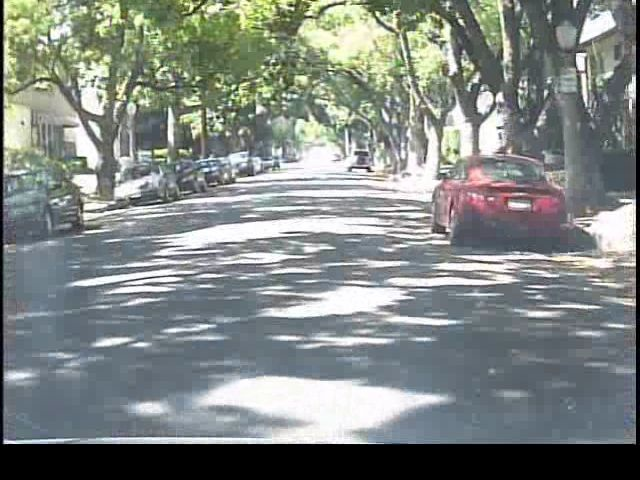person: (116, 146, 138, 195)
